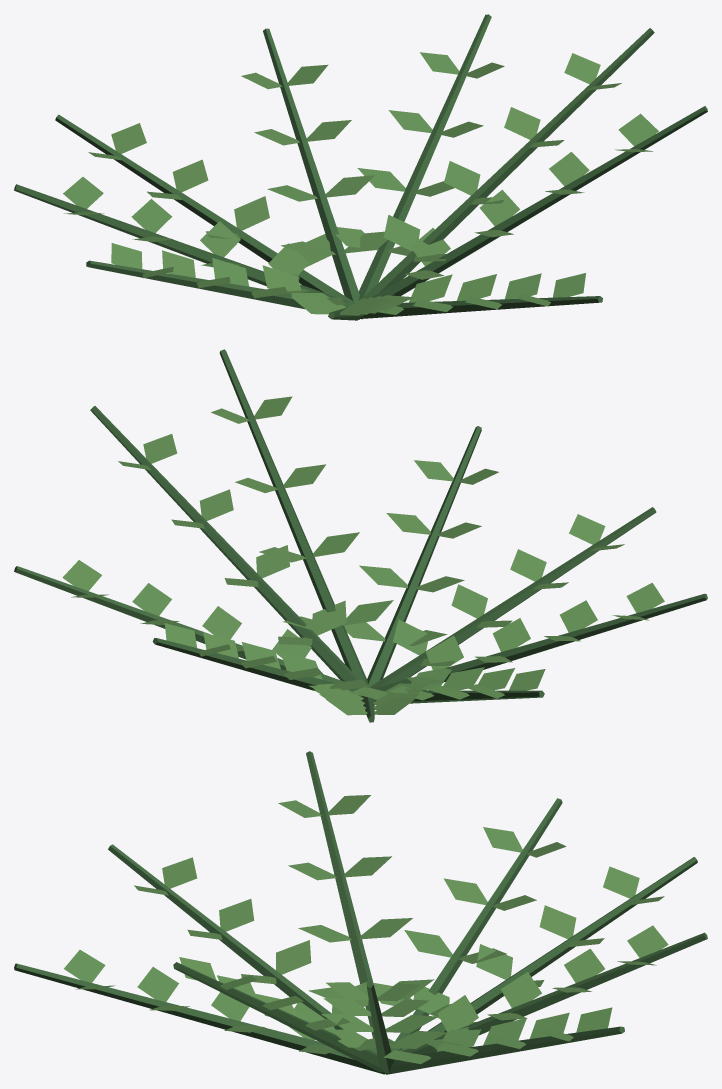
The model's file is mesh_fern_cluster_a.glb.
3 renders of one model, top to bottom at view 1: azimuth 30°, elevation 25°; view 2: azimuth 150°, elevation 25°; view 3: azimuth 270°, elevation 25°, orthographic. The views are drawn at different scales.
Parts seen in each view (by area): view 1: mesh_fern_cluster_a__leaf_mid, mesh_fern_cluster_a__leaf_dark; view 2: mesh_fern_cluster_a__leaf_mid, mesh_fern_cluster_a__leaf_dark; view 3: mesh_fern_cluster_a__leaf_mid, mesh_fern_cluster_a__leaf_dark.
Boxes of the visible parts, box(x1,y1,x2,y2) form: mesh_fern_cluster_a__leaf_mid: box(63, 52, 658, 315); mesh_fern_cluster_a__leaf_dark: box(14, 14, 707, 320); mesh_fern_cluster_a__leaf_mid: box(62, 396, 664, 715); mesh_fern_cluster_a__leaf_dark: box(14, 349, 707, 722); mesh_fern_cluster_a__leaf_mid: box(64, 795, 668, 1064); mesh_fern_cluster_a__leaf_dark: box(14, 751, 707, 1074).
Size of the model in its own units: 4.77 by 1.74 by 4.61.
